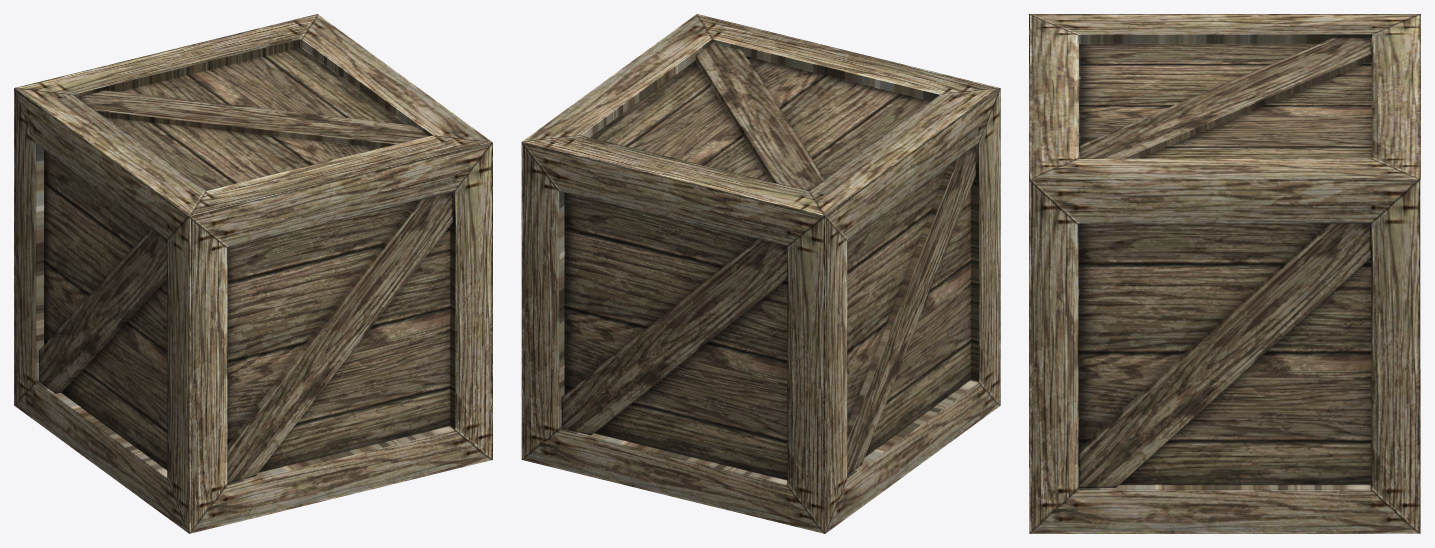
The model's file is crate_01.obj.
3 renders of one model, left to right at view 1: azimuth 30°, elevation 25°; view 2: azimuth 150°, elevation 25°; view 3: azimuth 270°, elevation 25°, orthographic. The views are drawn at different scales.
Parts seen in each view (by area): view 1: Cube; view 2: Cube; view 3: Cube.
Boxes of the visible parts, x1=… form: Cube: x1=14, y1=14, x2=492, y2=533; Cube: x1=521, y1=14, x2=1000, y2=533; Cube: x1=1029, y1=14, x2=1420, y2=533.
Bounding box in the file's own units: 1 × 1 × 1.
